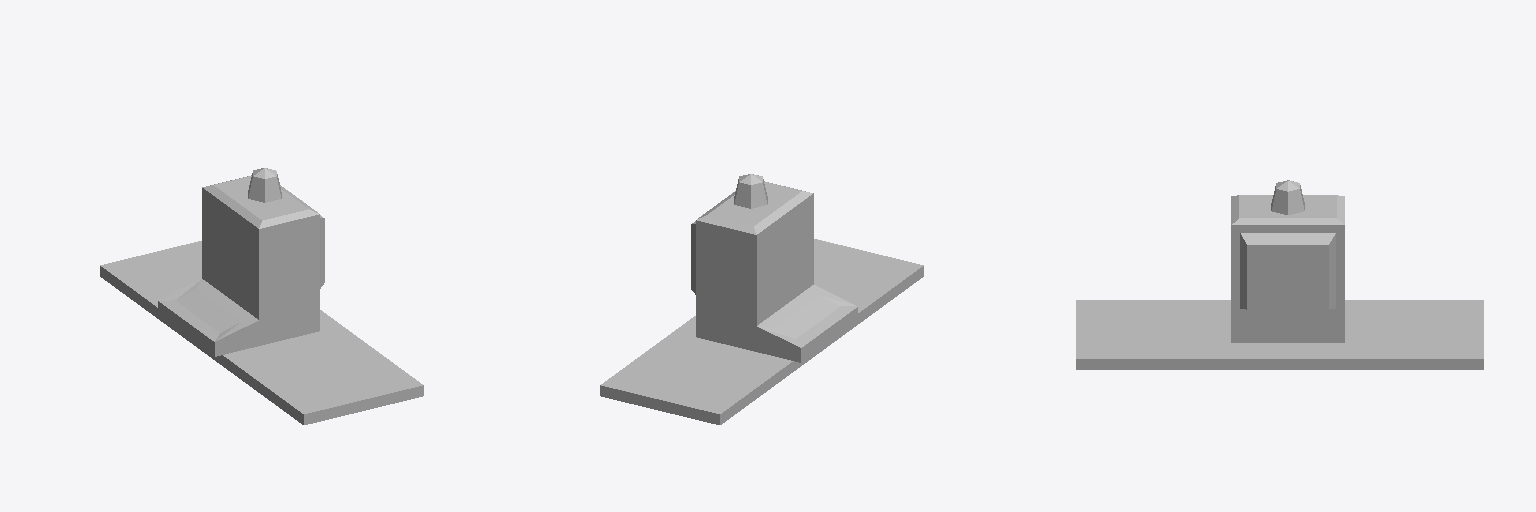
File: Computer.obj
3 views of the same model, side by side, from view 1: azimuth 30°, elevation 25°; view 2: azimuth 150°, elevation 25°; view 3: azimuth 270°, elevation 25° (orthographic).
Parts seen in each view (by area): view 1: polygon1, polygon0; view 2: polygon1, polygon0; view 3: polygon0, polygon1.
Part boxes in pixels (x1,y1,x2,y2): polygon1: (158, 168, 324, 356); polygon0: (100, 241, 423, 424); polygon1: (691, 174, 857, 362); polygon0: (600, 239, 923, 424); polygon0: (1076, 300, 1483, 369); polygon1: (1231, 180, 1344, 342).
Size of the model in its own units: 18.66 by 22.16 by 50.